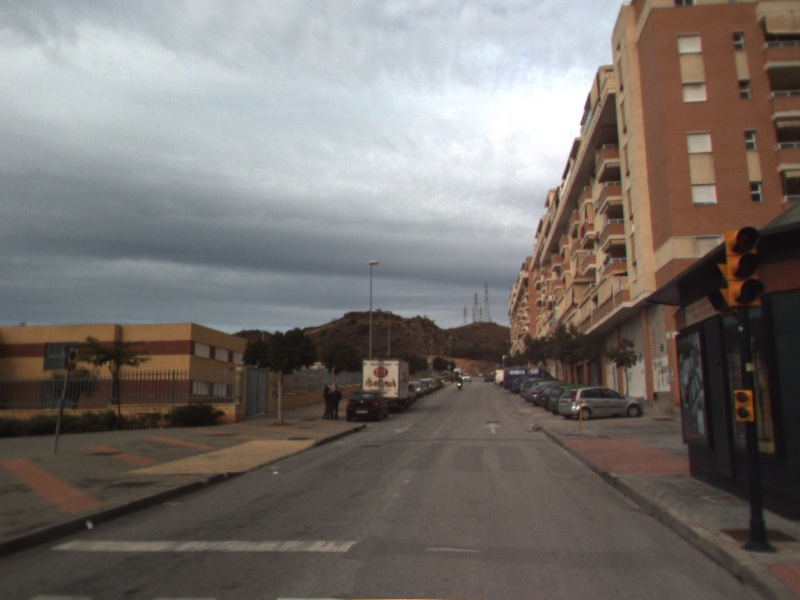STRAIGHT: (482, 420, 503, 435)
